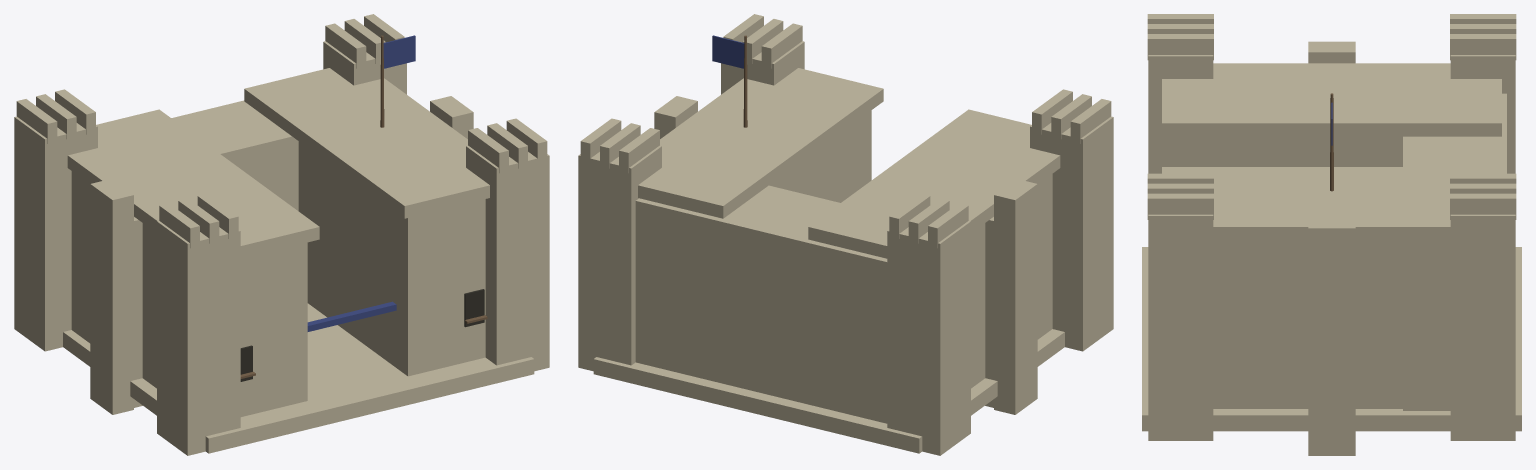
Rendered from b-keep-persian.glb.
3 renders of one model, left to right at view 1: azimuth 30°, elevation 25°; view 2: azimuth 150°, elevation 25°; view 3: azimuth 270°, elevation 25°, orthographic. The views are drawn at different scales.
Parts seen in each view (by area): view 1: Structure, fortification3, fortification2; view 2: Structure, fortification3, fortification2; view 3: Structure, fortification3.
Boxes of the visible parts, x1=… form: Structure: x1=14, y1=14, x2=549, y2=455; fortification3: x1=90, y1=96, x2=473, y2=414; fortification2: x1=129, y1=217, x2=142, y2=408; Structure: x1=578, y1=14, x2=1113, y2=455; fortification3: x1=654, y1=96, x2=1037, y2=414; fortification2: x1=985, y1=217, x2=998, y2=408; Structure: x1=1142, y1=14, x2=1521, y2=440; fortification3: x1=1308, y1=41, x2=1355, y2=455.
Bounding box in the file's own units: 7.5 × 5.99 × 6.43.
